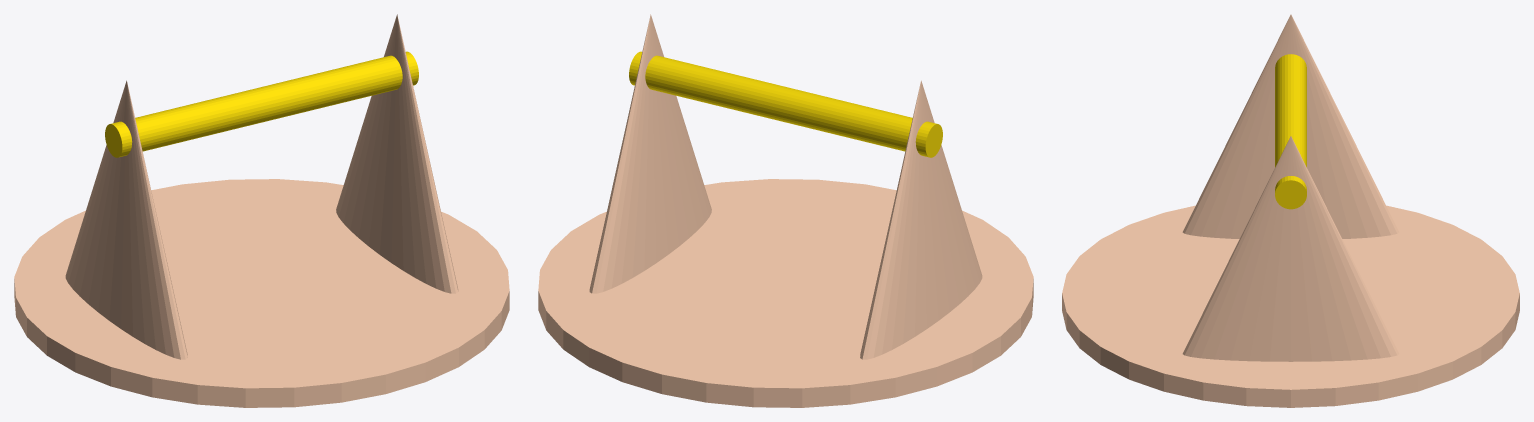
Rendered from CannonBase.fbx.
3 renders of one model, left to right at view 1: azimuth 30°, elevation 25°; view 2: azimuth 150°, elevation 25°; view 3: azimuth 270°, elevation 25°, orthographic. The views are drawn at different scales.
Parts seen in each view (by area): view 1: Cylinder, 円柱; view 2: Cylinder, 円柱; view 3: Cylinder, 円柱.
Boxes of the visible parts, <box> form: Cylinder: <box>14,14,509,407</box>; 円柱: <box>105,51,418,157</box>; Cylinder: <box>538,14,1033,407</box>; 円柱: <box>629,51,942,157</box>; Cylinder: <box>1062,14,1519,407</box>; 円柱: <box>1275,54,1306,209</box>.
Bounding box in the file's own units: 200 × 114 × 200.
